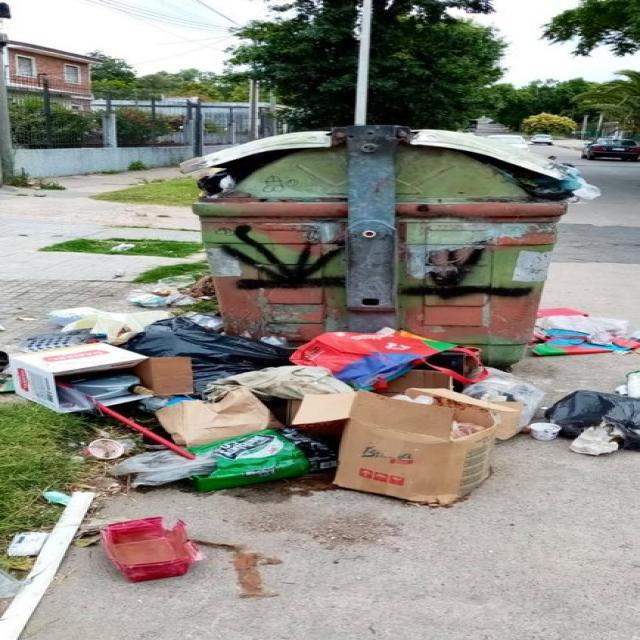garbage: (6, 330, 535, 506), (75, 512, 209, 594), (531, 364, 640, 464), (520, 300, 640, 361), (46, 303, 249, 331), (512, 156, 622, 207), (118, 268, 210, 312), (182, 167, 250, 206)
